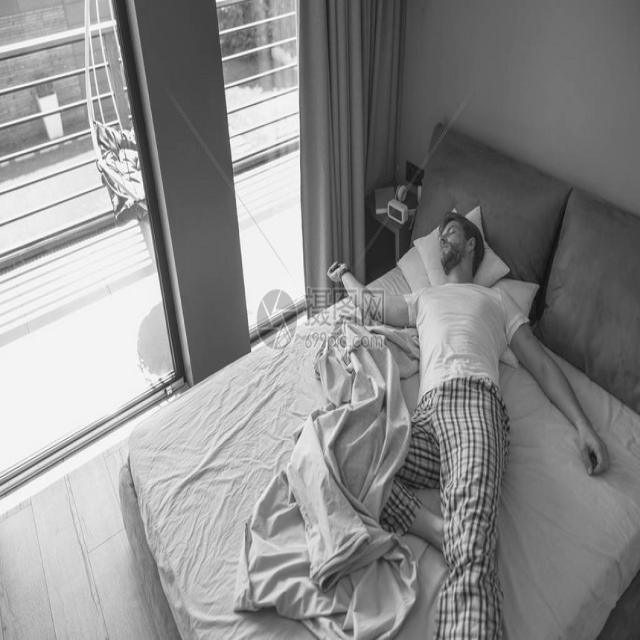lie: (324, 206, 554, 640)
